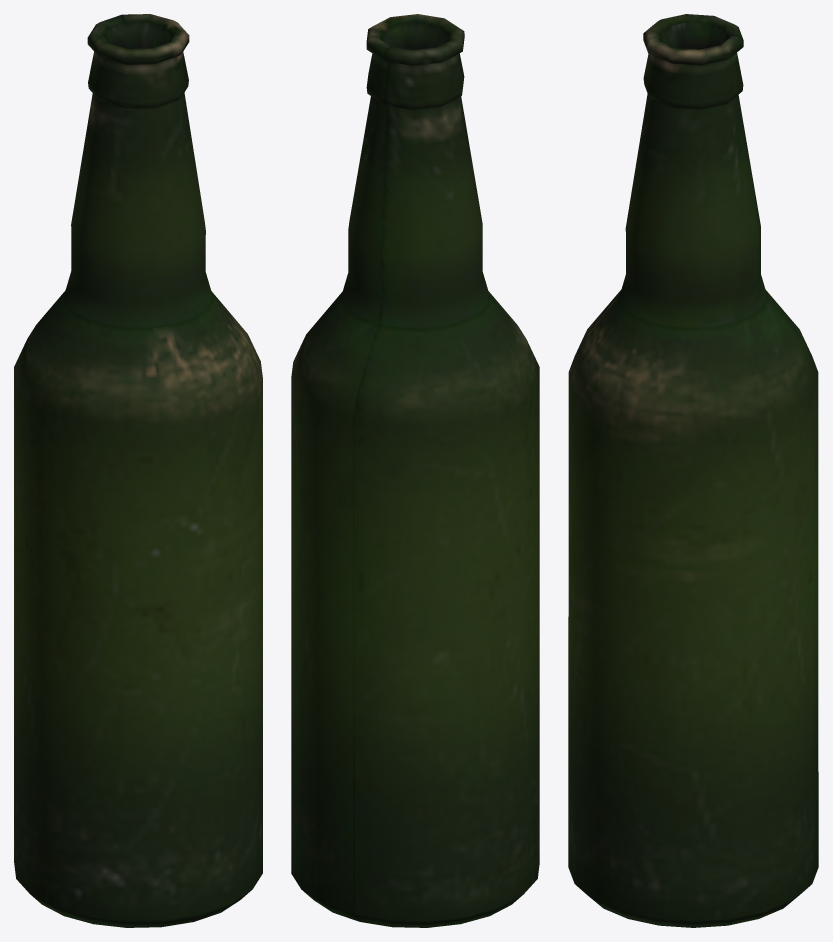
Rendered from bottle01a.obj.
3 views of the same model, side by side, from view 1: azimuth 30°, elevation 25°; view 2: azimuth 150°, elevation 25°; view 3: azimuth 270°, elevation 25° (orthographic).
Parts seen in each view (by area): view 1: LODGroup_1_MainMesh_1_Submesh_1; view 2: LODGroup_1_MainMesh_1_Submesh_1; view 3: LODGroup_1_MainMesh_1_Submesh_1.
Part boxes in pixels (x1,y1,x2,y2): LODGroup_1_MainMesh_1_Submesh_1: [14, 14, 262, 927]; LODGroup_1_MainMesh_1_Submesh_1: [291, 14, 539, 927]; LODGroup_1_MainMesh_1_Submesh_1: [568, 14, 818, 927].
Size of the model in its own units: 8.28 by 30.96 by 8.28.
Materials: 1 (1 with a texture image).
